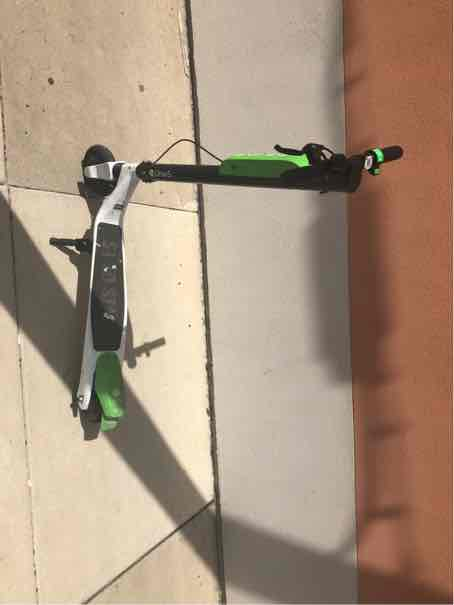scooter: (39, 147, 426, 447)
